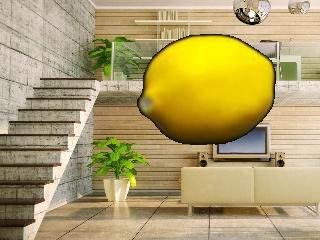lemon: (138, 35, 274, 144)
